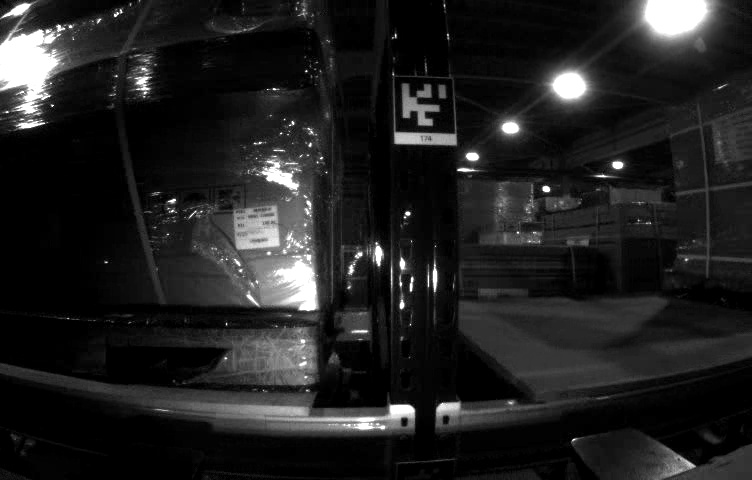True Barcode: (231, 204, 283, 250)
